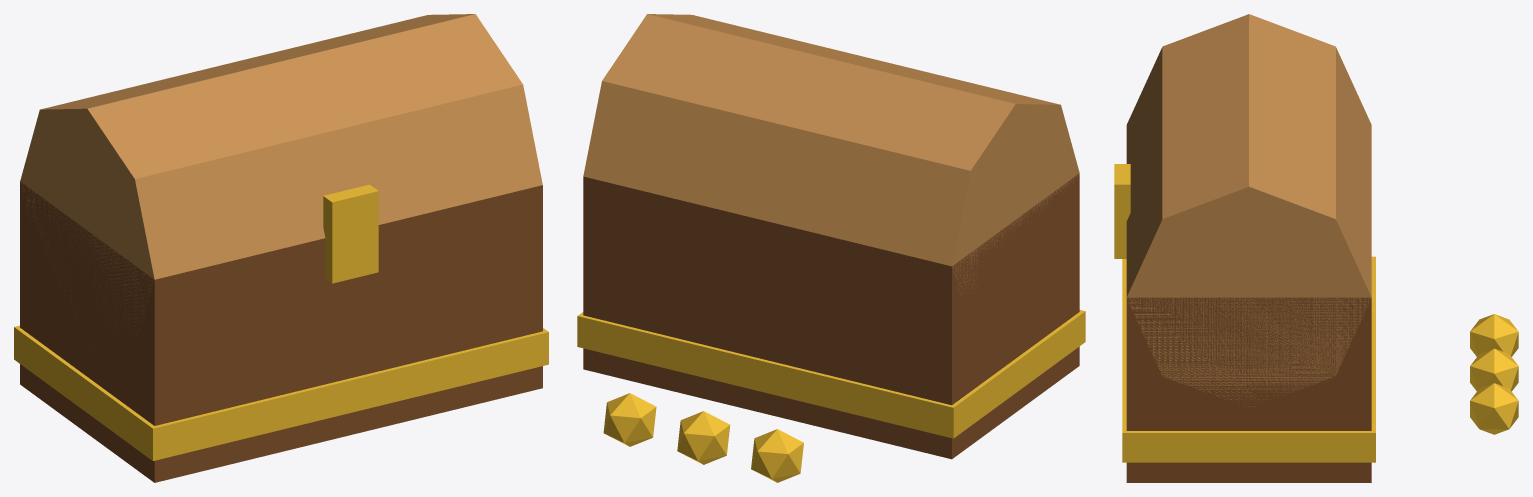
The model's file is treasure_chest.fbx.
3 renders of one model, left to right at view 1: azimuth 30°, elevation 25°; view 2: azimuth 150°, elevation 25°; view 3: azimuth 270°, elevation 25°, orthographic. The views are drawn at different scales.
Visible parts, largest first — view 1: treasure_chest; view 2: treasure_chest; view 3: treasure_chest.
Part boxes in pixels (left/top/right/bottom): treasure_chest: left=14, top=14, right=548, bottom=482; treasure_chest: left=577, top=14, right=1085, bottom=482; treasure_chest: left=1114, top=14, right=1518, bottom=482.
Size of the model in its own units: 1.02 by 0.81 by 0.9895.
